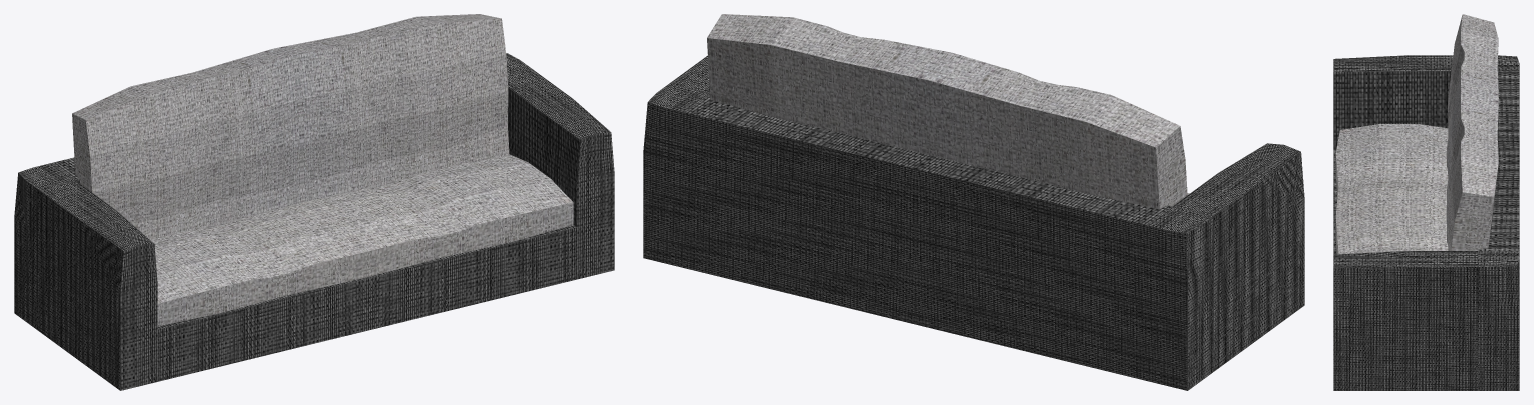
The model's file is couch.gltf.
3 views of the same model, side by side, from view 1: azimuth 30°, elevation 25°; view 2: azimuth 150°, elevation 25°; view 3: azimuth 270°, elevation 25° (orthographic). The views are drawn at different scales.
Parts seen in each view (by area): view 1: Cube; view 2: Cube; view 3: Cube.
Part boxes in pixels (x1=…): Cube: x1=14, y1=14, x2=614, y2=390; Cube: x1=643, y1=14, x2=1304, y2=390; Cube: x1=1333, y1=14, x2=1519, y2=390.
Size of the model in its own units: 5.26 by 2.26 by 1.96.
1 material, 1 textured.
